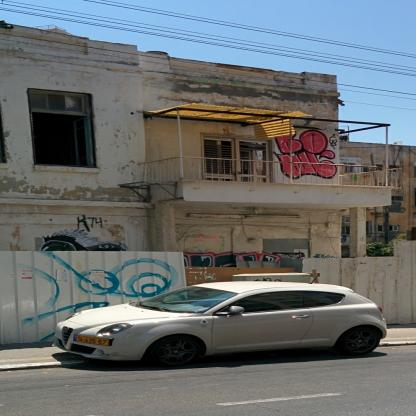Car: (52, 281, 385, 369)
